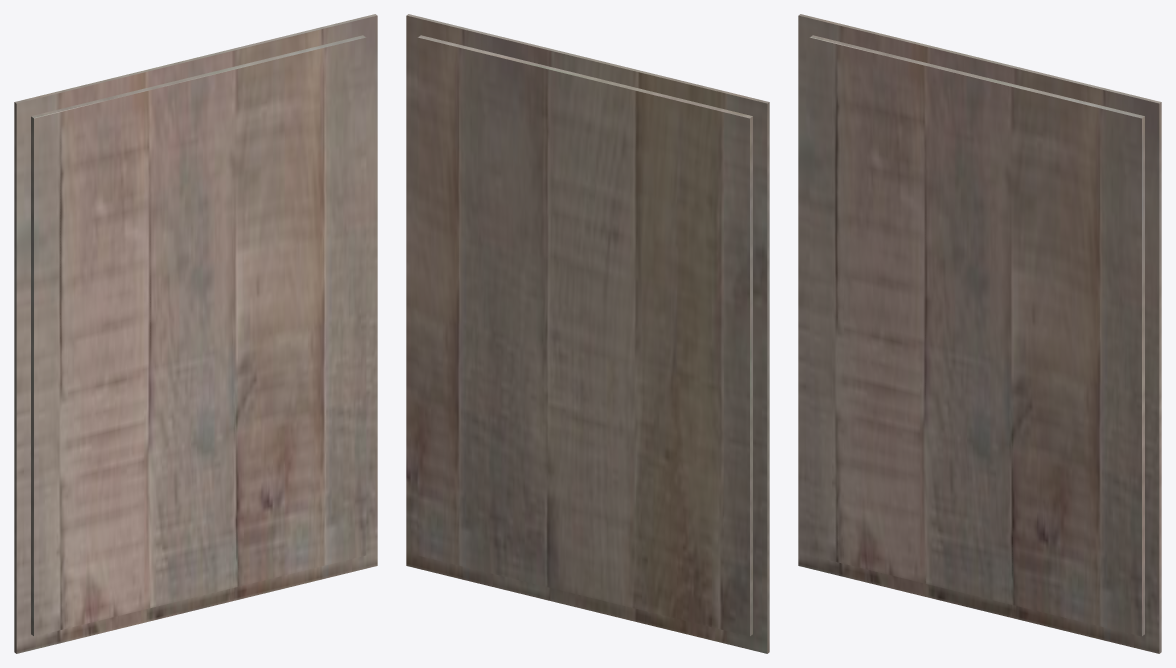
The model's file is original-55.obj.
The picture shows the model from 3 angles, left to right: view 1: azimuth 30°, elevation 25°; view 2: azimuth 150°, elevation 25°; view 3: azimuth 330°, elevation 25°; orthographic projection.
Parts seen in each view (by area): view 1: Door_Panel2/Door_Panel12/mesh95/mesh95-geometry#mesh95-geometry; view 2: Door_Panel2/Door_Panel12/mesh95/mesh95-geometry#mesh95-geometry; view 3: Door_Panel2/Door_Panel12/mesh95/mesh95-geometry#mesh95-geometry.
Part boxes in pixels (box(x1,y1,x2,y2)): Door_Panel2/Door_Panel12/mesh95/mesh95-geometry#mesh95-geometry: box(14, 14, 377, 653); Door_Panel2/Door_Panel12/mesh95/mesh95-geometry#mesh95-geometry: box(406, 14, 769, 653); Door_Panel2/Door_Panel12/mesh95/mesh95-geometry#mesh95-geometry: box(798, 14, 1161, 653).
Bounding box in the file's own units: 0.4547 × 0.6626 × 0.0182.
